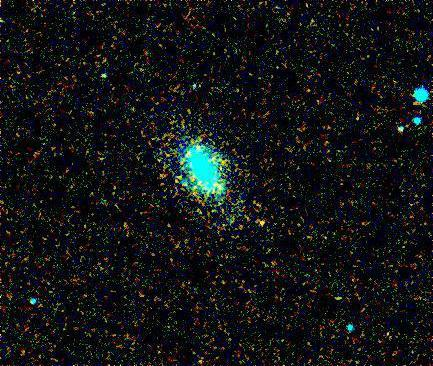star: (248, 210, 278, 240)
